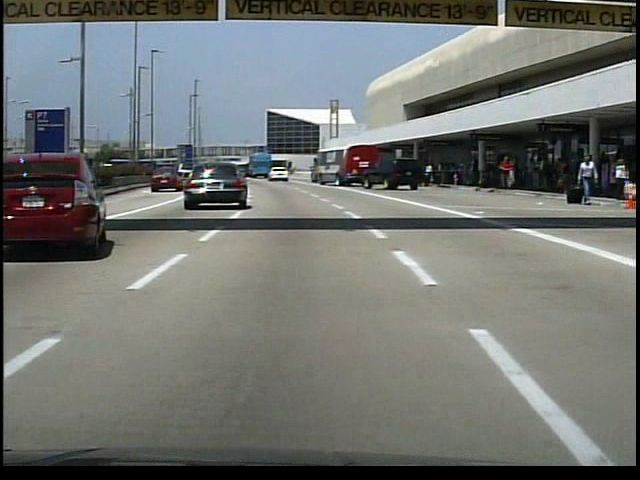person: (573, 151, 599, 206), (496, 154, 516, 191), (536, 153, 550, 190), (553, 157, 567, 194), (421, 163, 434, 190), (471, 157, 482, 187)
